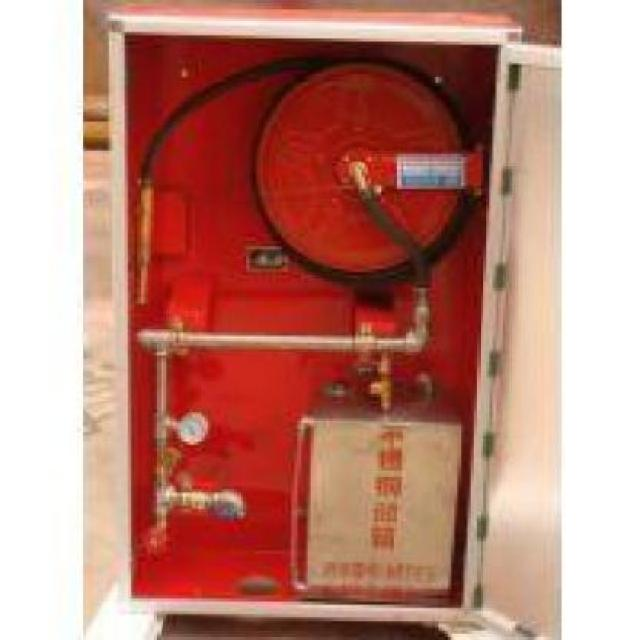firehydrant: (100, 12, 559, 640)
